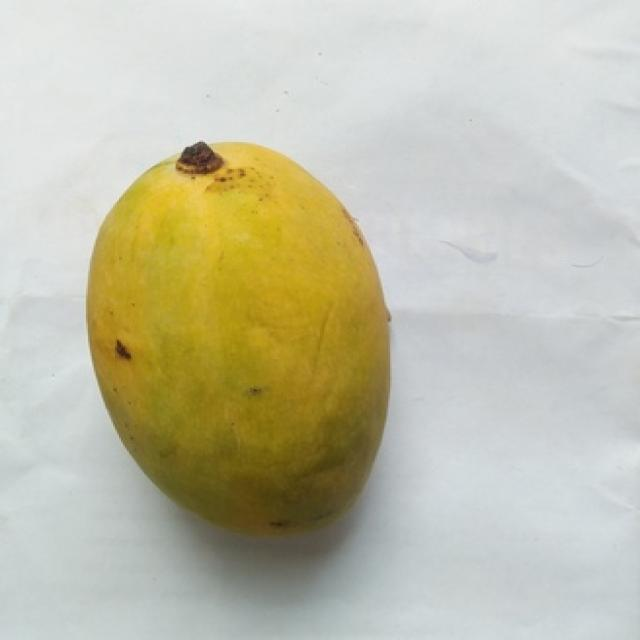Mango: (88, 142, 388, 533)
